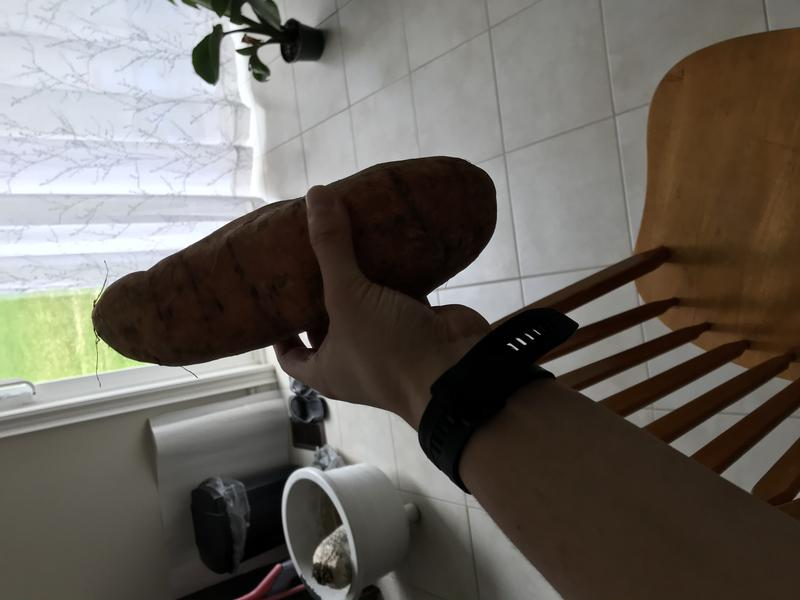sweet_potato: (80, 147, 514, 379)
